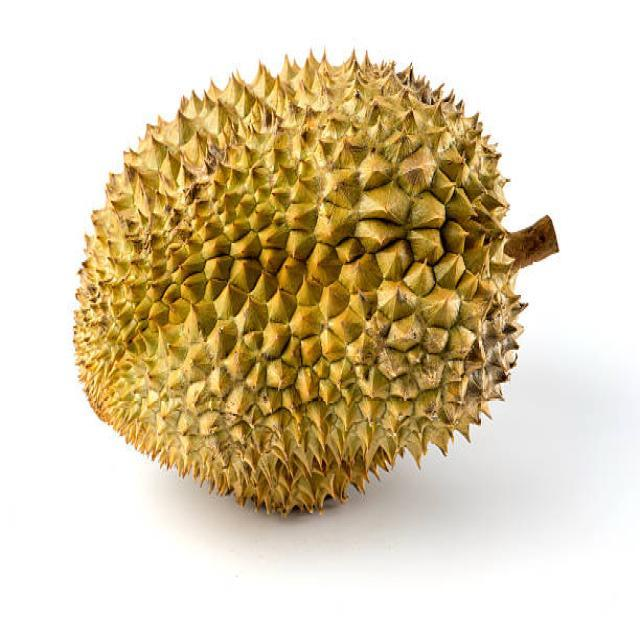mature: (75, 56, 522, 513)
